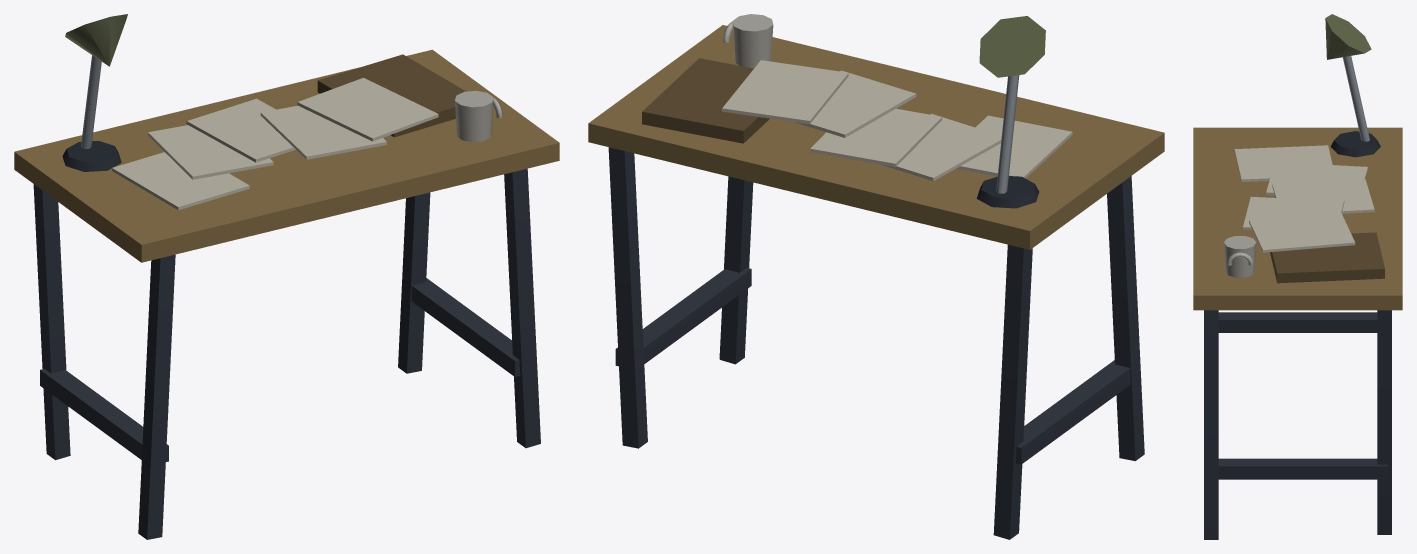
File: field_desk.glb
3 views of the same model, side by side, from view 1: azimuth 30°, elevation 25°; view 2: azimuth 150°, elevation 25°; view 3: azimuth 270°, elevation 25° (orthographic). The views are drawn at different scales.
Parts seen in each view (by area): view 1: field_desk; view 2: field_desk; view 3: field_desk.
Boxes of the visible parts, x1,y1,x2,y2 form: field_desk: (14, 14, 559, 539); field_desk: (588, 14, 1164, 539); field_desk: (1193, 14, 1402, 539).
Bounding box in the file's own units: 1.1 × 1.16 × 0.58.
